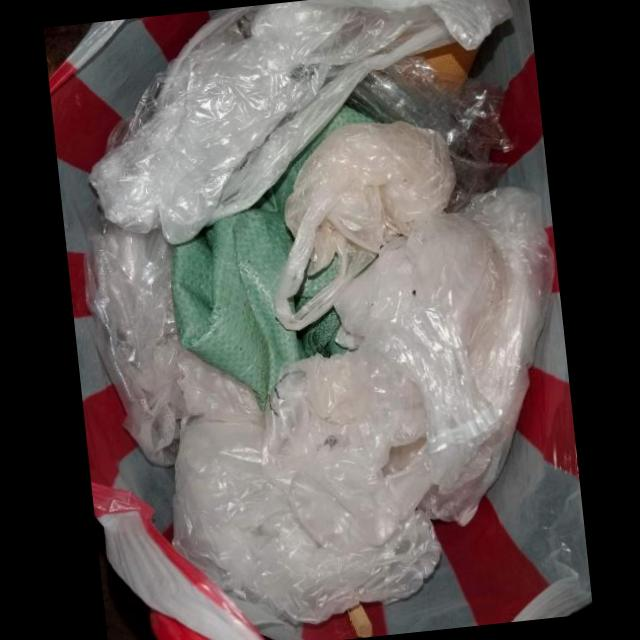tui_ni_long: (171, 185, 554, 624), (89, 0, 515, 244), (83, 217, 261, 467), (274, 119, 455, 330)
